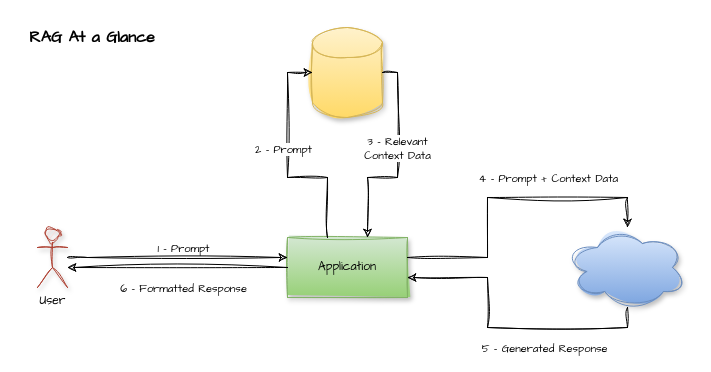
Image size: 711x372. Some labels were removed from this diagram. Each missing label, with the centre of its shape:
"Contextual Data" goes at [348,73].
"LLM" goes at [628,268].
